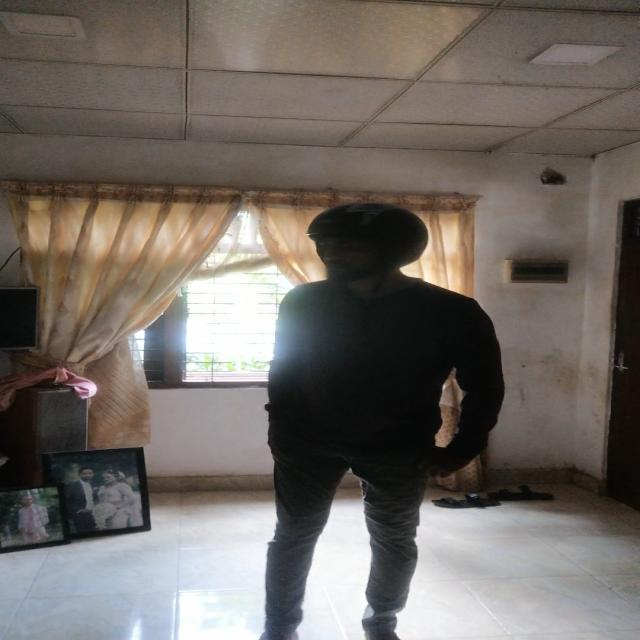Helmet_Wearer: (289, 203, 446, 281)
Person: (259, 203, 505, 640)
